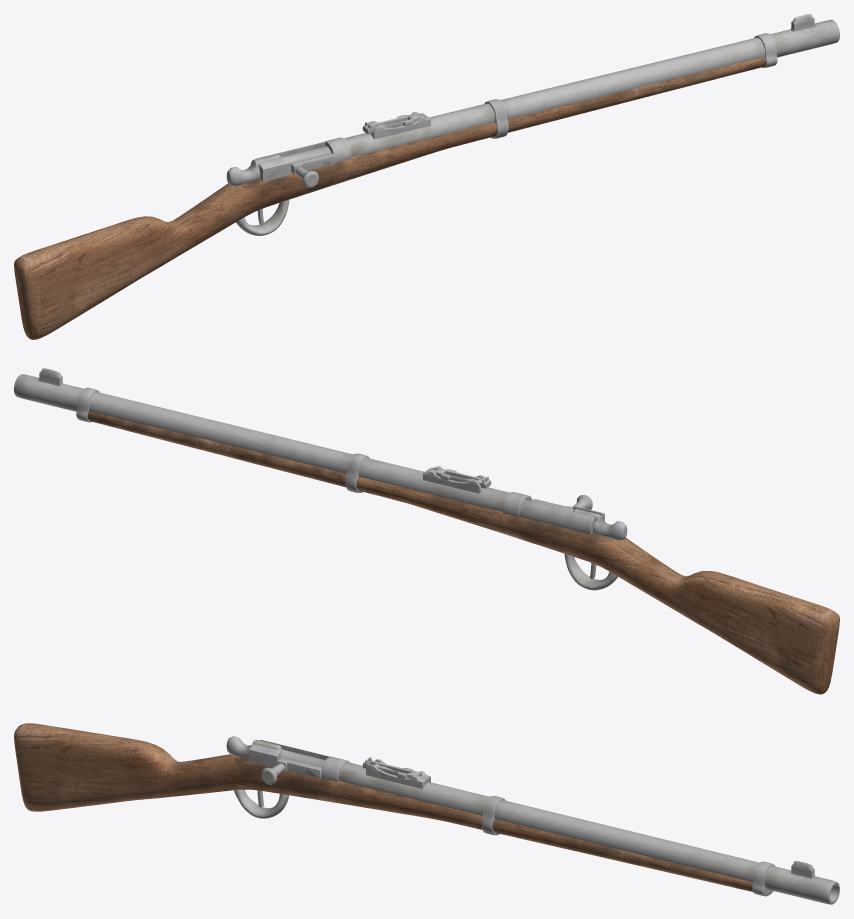
File: fusil_chassepot_1866.glb
3 views of the same model, one above another, from view 1: azimuth 30°, elevation 25°; view 2: azimuth 150°, elevation 25°; view 3: azimuth 330°, elevation 25° (orthographic).
Parts seen in each view (by area): view 1: Chassepot_19; view 2: Chassepot_19; view 3: Chassepot_19.
Part boxes in pixels (left/top/right/bottom): Chassepot_19: left=14, top=14, right=839, bottom=339; Chassepot_19: left=14, top=368, right=839, bottom=694; Chassepot_19: left=14, top=723, right=839, bottom=904.
Size of the model in its own units: 9.78 by 1.55 by 0.6467.
Materials: 2 (2 with a texture image).
